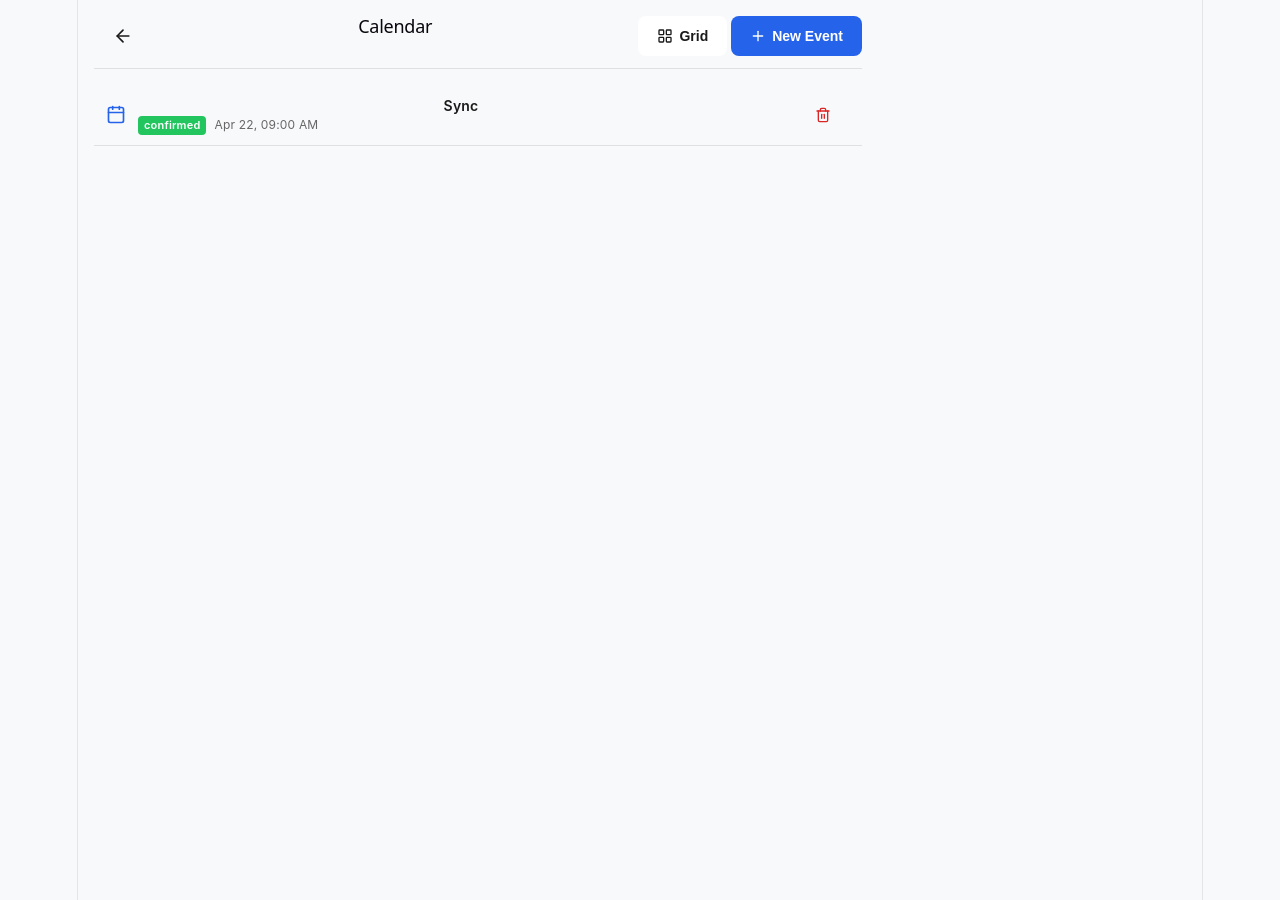
Test: CalendarManager › shows ICS download button in event detail
Click the text "Sync". click: point(461, 106)
box: [444, 97, 478, 114]
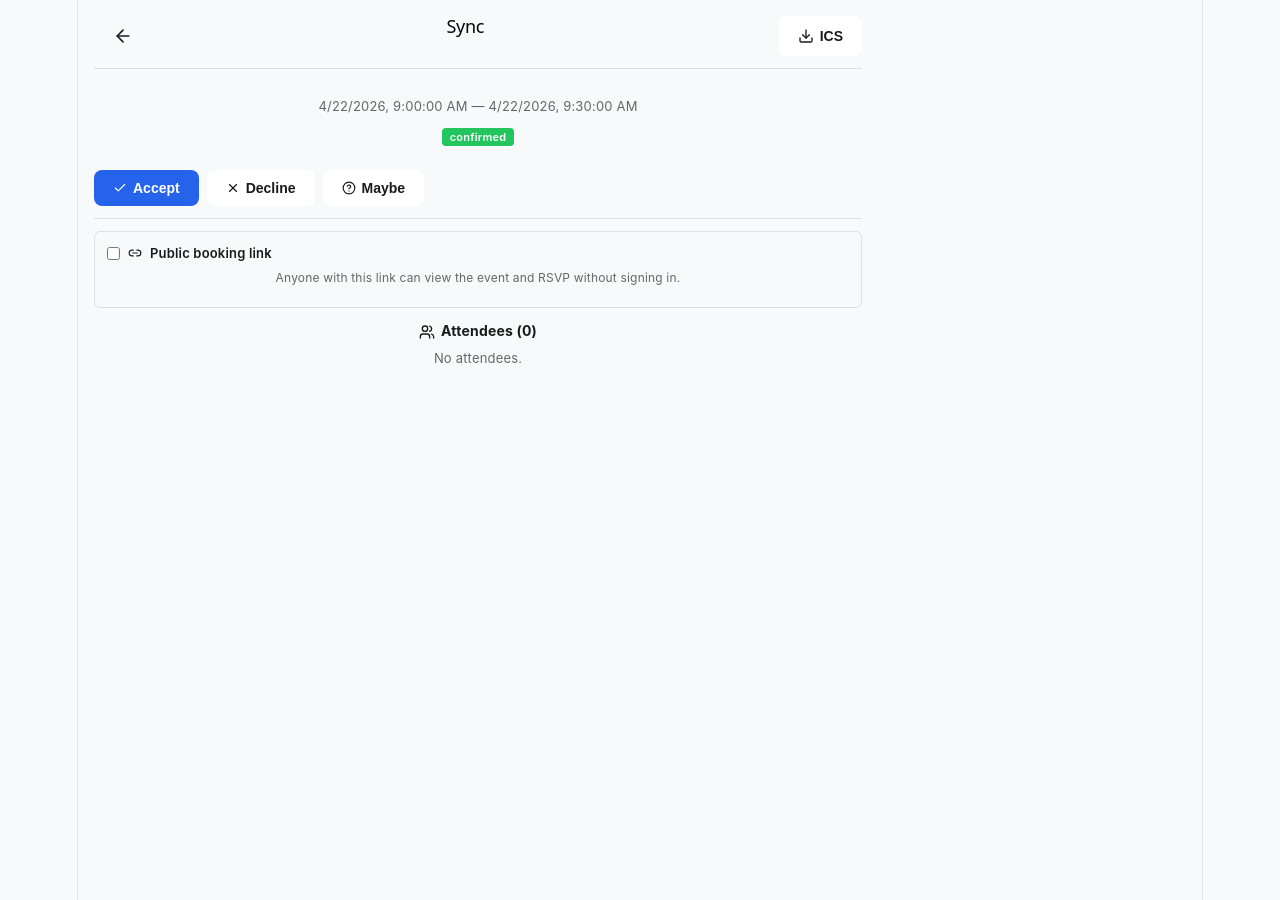
Check: the button "ICS" is shown, box [779, 16, 862, 56]
